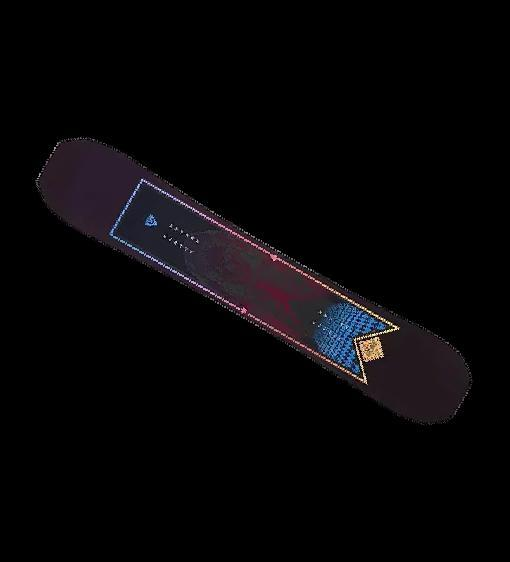Snowboard: (34, 130, 474, 438)
